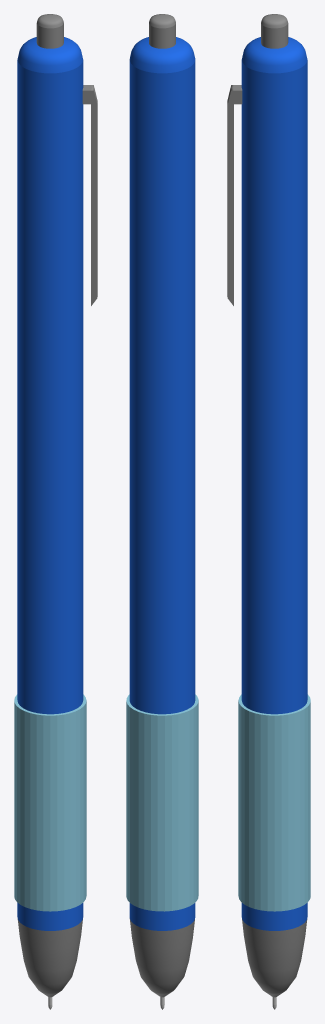
File: dlugopis.fbx
3 views of the same model, side by side, from view 1: azimuth 90°, elevation 25°; view 2: azimuth 150°, elevation 25°; view 3: azimuth 270°, elevation 25° (orthographic).
Parts seen in each view (by area): view 1: Cylinder; view 2: Cylinder; view 3: Cylinder.
Boxes of the visible parts, <box> form: Cylinder: <box>14,14,97,1009</box>; Cylinder: <box>126,14,198,1009</box>; Cylinder: <box>227,14,310,1009</box>.
Bounding box in the file's own units: 220 × 3333 × 254.
